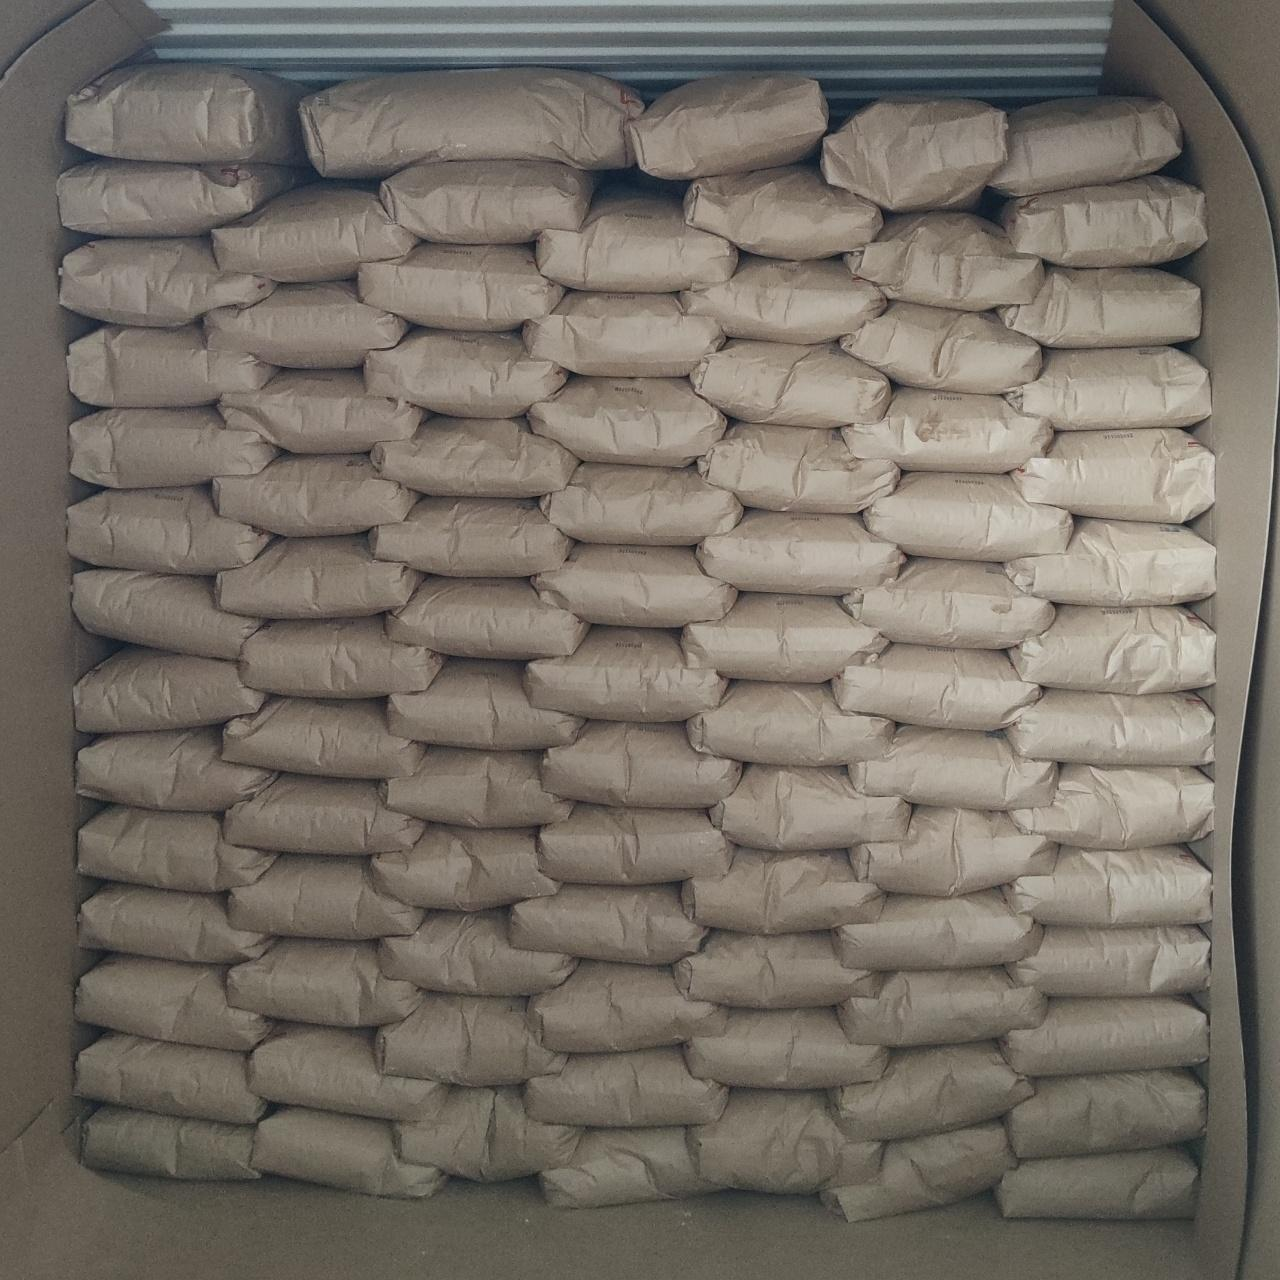sack: (299, 68, 644, 177), (66, 63, 312, 165), (627, 73, 828, 179), (821, 98, 1007, 212), (212, 182, 418, 282), (829, 1040, 1033, 1141), (685, 1090, 883, 1193), (535, 192, 738, 292), (844, 211, 1043, 311), (998, 175, 1207, 267), (57, 158, 308, 236), (987, 96, 1182, 196), (1012, 428, 1214, 523), (60, 237, 275, 326), (75, 955, 272, 1051), (822, 1121, 1012, 1220), (522, 627, 726, 720), (850, 806, 1058, 897), (842, 559, 1054, 647), (248, 1024, 444, 1119), (1005, 517, 1216, 605), (681, 593, 888, 682), (685, 164, 881, 258), (840, 301, 1041, 393), (842, 387, 1053, 474), (529, 960, 726, 1053), (1010, 605, 1214, 694), (864, 474, 1073, 560), (379, 159, 595, 243), (363, 329, 568, 417), (697, 423, 899, 512), (386, 659, 581, 750), (358, 243, 564, 329), (527, 376, 726, 467), (687, 680, 896, 765), (680, 256, 883, 343), (696, 510, 904, 595), (68, 486, 270, 574), (688, 339, 890, 427), (832, 644, 1041, 728), (1003, 1071, 1205, 1158), (394, 1087, 580, 1180), (375, 993, 564, 1085), (204, 281, 408, 367), (522, 291, 726, 376), (542, 721, 742, 808), (67, 324, 275, 407), (849, 726, 1057, 809), (832, 888, 1042, 971), (379, 910, 577, 996), (72, 568, 261, 659), (250, 1108, 442, 1197), (1002, 348, 1211, 430), (532, 544, 737, 627), (1009, 764, 1213, 847), (682, 847, 880, 933), (75, 1034, 265, 1123), (709, 765, 910, 850), (384, 576, 587, 659), (219, 372, 428, 452), (1002, 847, 1211, 928), (216, 537, 423, 618), (212, 455, 420, 536), (226, 940, 420, 1027), (79, 806, 273, 892), (77, 727, 274, 811), (70, 407, 278, 486), (372, 417, 579, 497), (227, 855, 423, 939), (238, 617, 442, 697), (999, 998, 1208, 1076), (542, 462, 742, 544), (839, 967, 1046, 1047), (222, 697, 424, 778), (998, 266, 1200, 347), (523, 1047, 728, 1126), (223, 774, 423, 855), (370, 824, 557, 911), (674, 930, 879, 1008), (685, 1008, 888, 1087), (74, 648, 265, 731), (369, 498, 574, 576), (539, 803, 735, 884), (1006, 689, 1213, 765), (509, 884, 706, 964), (380, 747, 572, 828), (79, 884, 272, 964), (542, 1126, 717, 1207), (996, 1148, 1198, 1218), (1008, 927, 1210, 995), (82, 1107, 260, 1180)
